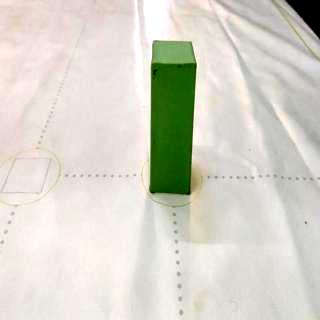greenbox: (148, 36, 198, 196)
